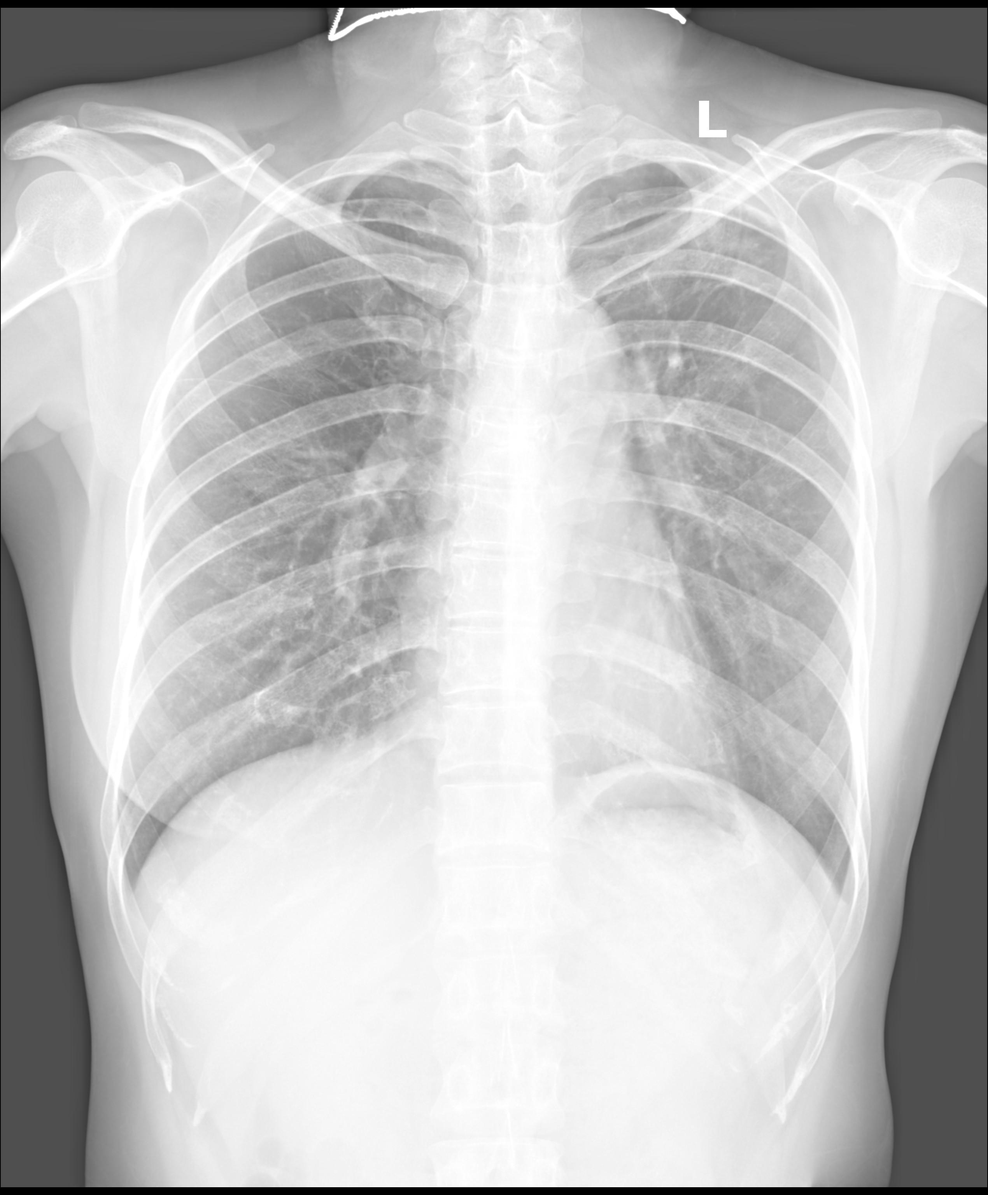Pleural thickening: (702, 165, 783, 223)
Pulmonary fibrosis: (681, 223, 773, 294)
